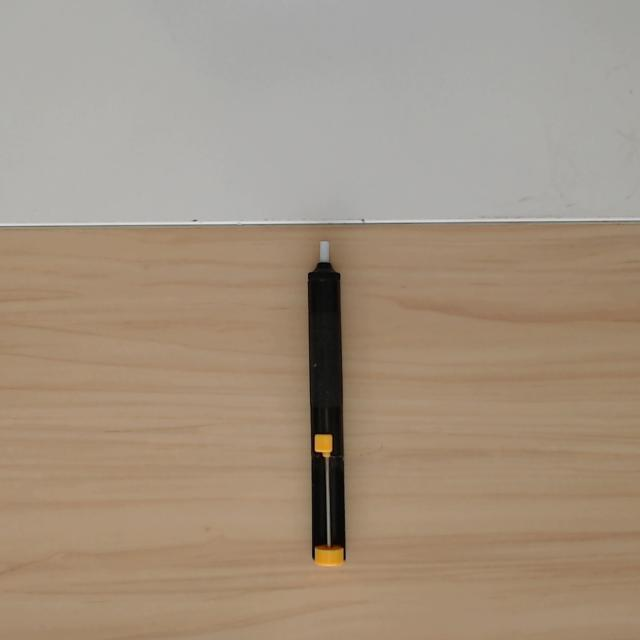Desoldering-Pump: (306, 242, 348, 569)
